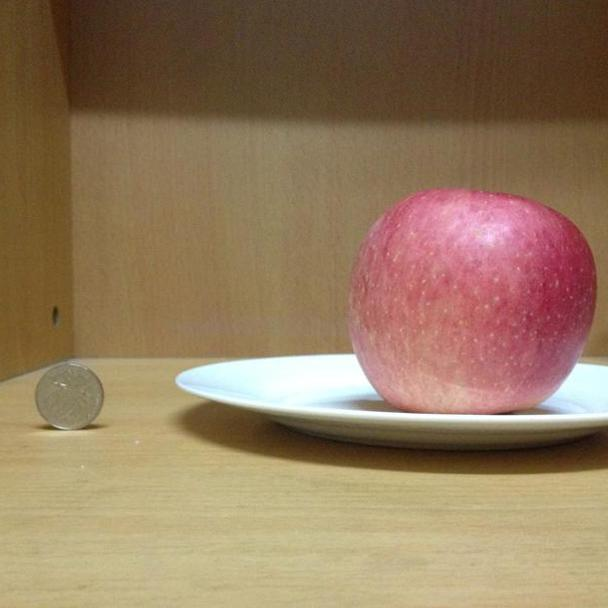apple: (347, 190, 597, 415)
